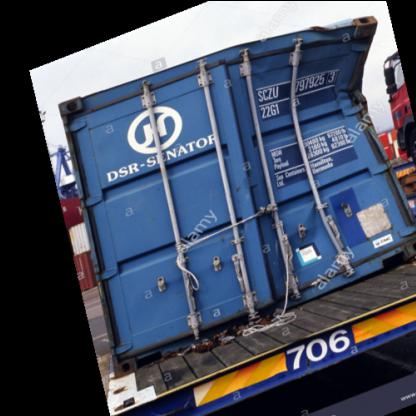Damage: (272, 9, 384, 284)
